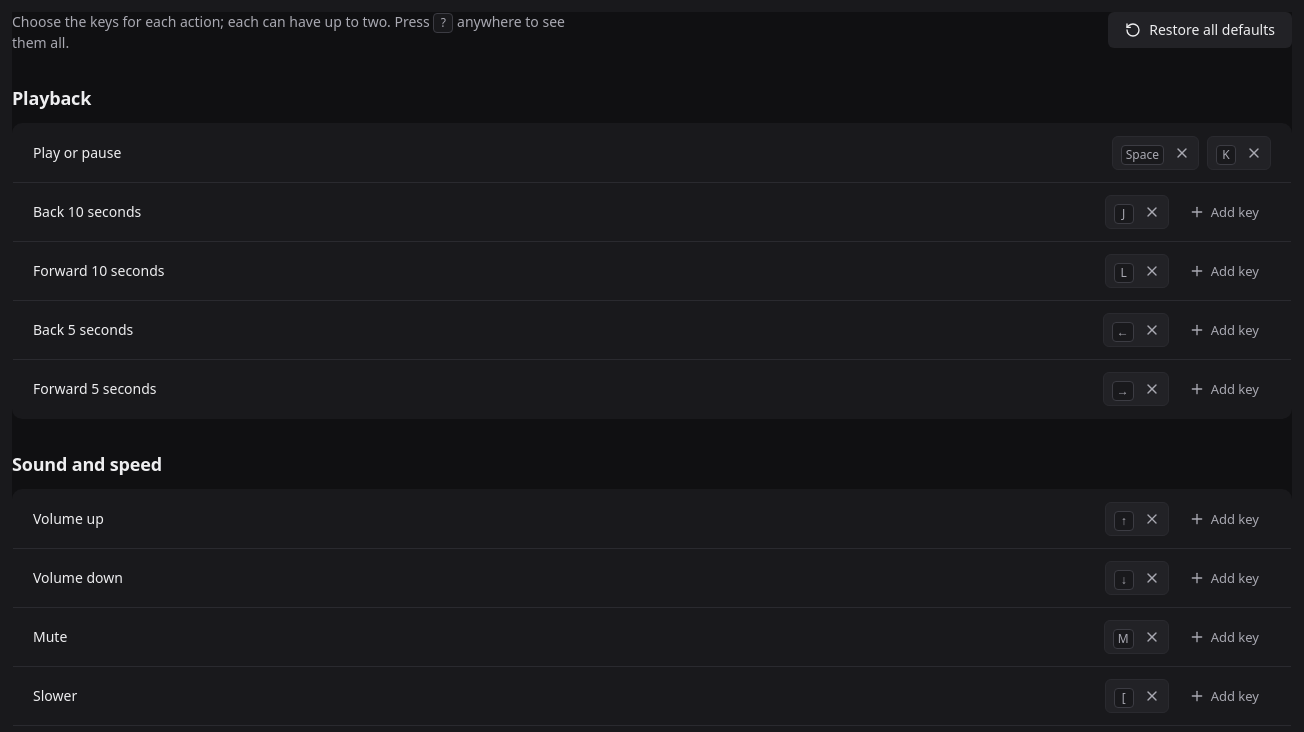
Test: ShortcutsSettings › goes back to the saved keys when saving fails
Click the button named "Remove M from Mute": (1152, 637) [1138,623,1166,651]
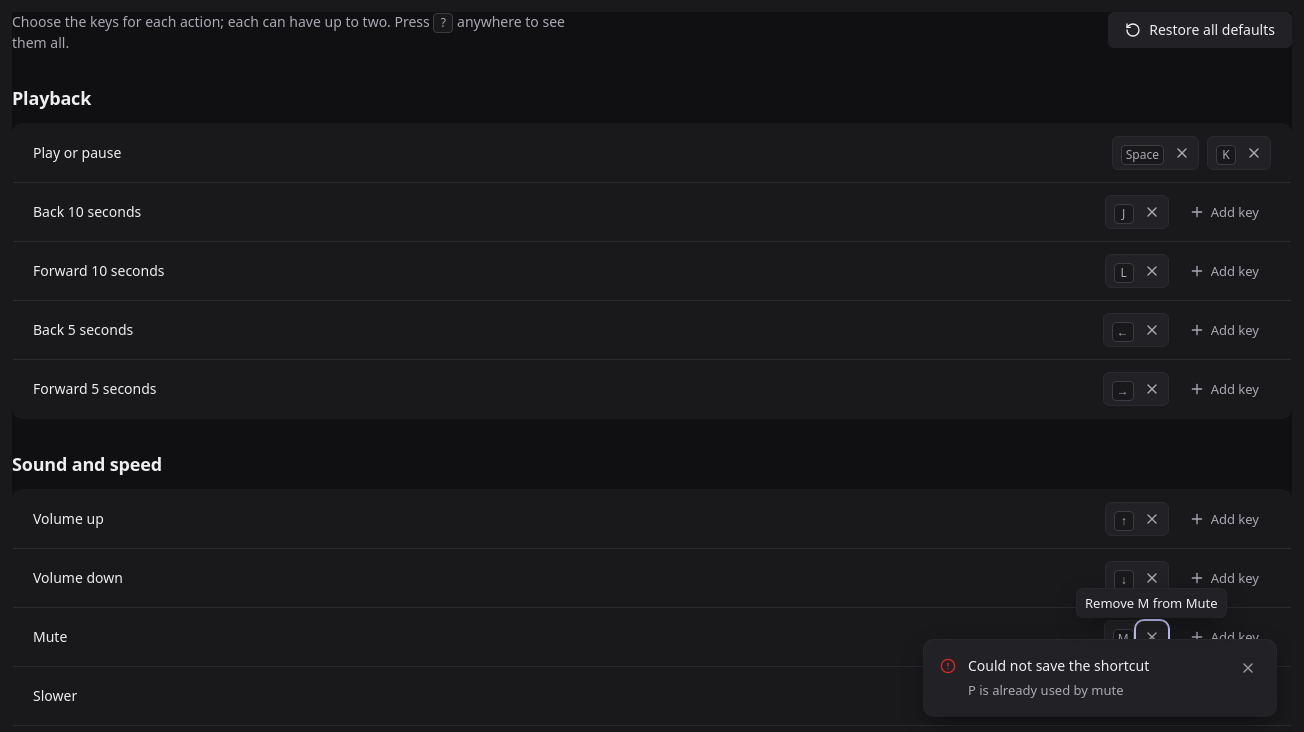
Now the text "Could not save the shortcut" is shown, box [968,656,1149,675]
Now the text "P is already used by mute" is shown, box [968,681,1124,699]
